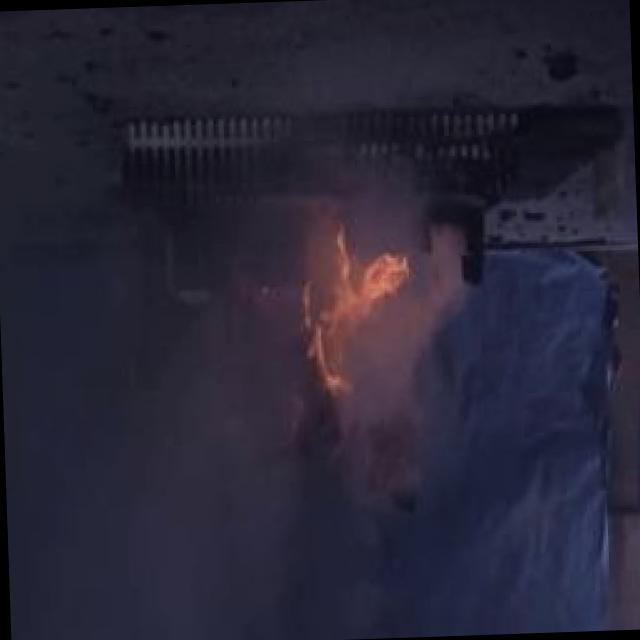fire: (298, 238, 422, 417)
